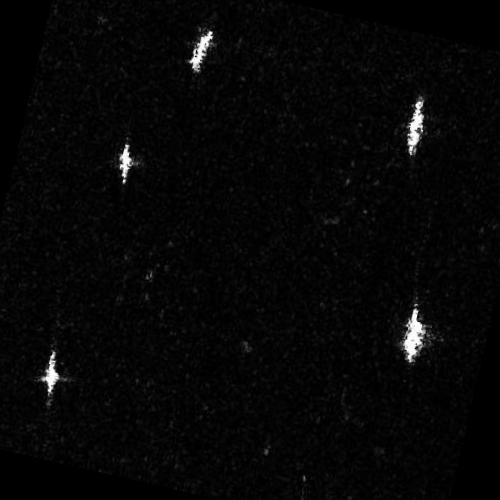ship: (399, 304, 428, 366), (404, 95, 426, 157), (188, 28, 214, 74), (40, 347, 60, 398), (117, 140, 134, 186)
